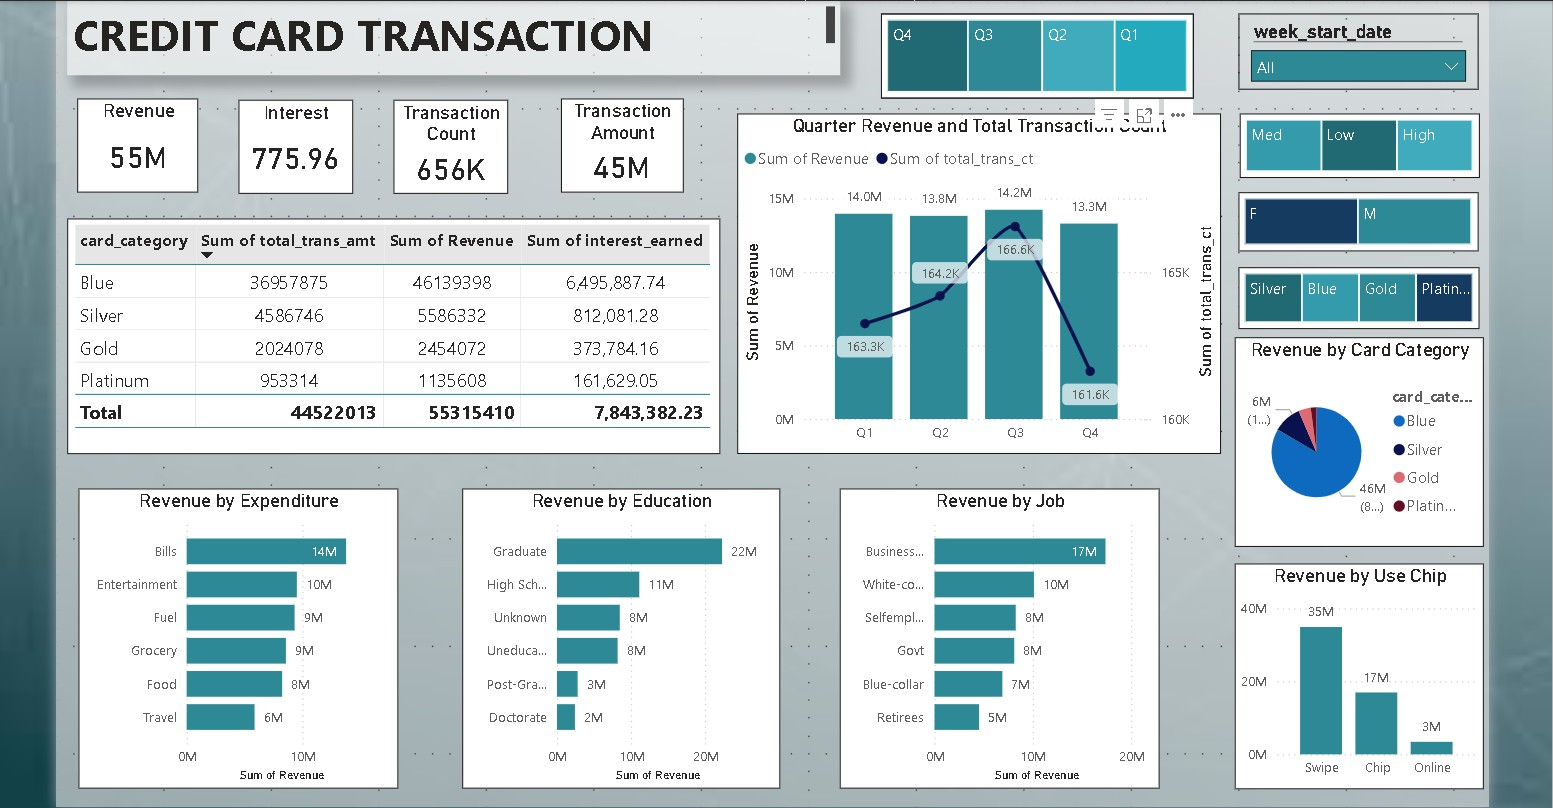

The page's visual inventory and layout, read from the dashboard file:
{"tool":"powerbi","page":{"name":"Page 2","canvas":[1280,720],"ordinal":0},"visuals":[{"type":"textbox","box":[9.8,0,690.5,66.5],"z":0},{"type":"lineStackedColumnComboChart","title":"Quarter Revenue and Total Transaction Count","fields":{"Category":["public cc_detail.qtr"],"Y":["Sum(public cc_detail.Revenue)"],"Y2":["Sum(public cc_detail.total_trans_ct)"]},"box":[608,100.9,432,304],"z":1000},{"type":"barChart","title":"Revenue by Expenditure","fields":{"Y":["Sum(public cc_detail.Revenue)"],"Category":["public cc_detail.exp_type"]},"box":[19.7,435.7,285.5,268.3],"z":2000},{"type":"barChart","title":"Revenue by Education","fields":{"Y":["Sum(public cc_detail.Revenue)"],"Category":["public cust_detail.education_level"]},"box":[363.1,435.7,284.3,268.3],"z":3000},{"type":"barChart","title":"Revenue by Job","fields":{"Y":["Sum(public cc_detail.Revenue)"],"Category":["public cust_detail.customer_job"]},"box":[700.3,435.7,285.5,268.3],"z":4000},{"type":"pieChart","title":"Revenue by Card Category","fields":{"Category":["public cc_detail.card_category"],"Y":["Sum(public cc_detail.Revenue)"]},"box":[1052.3,300.3,222.8,187.1],"z":5000},{"type":"columnChart","title":"Revenue by Use Chip","fields":{"Category":["public cc_detail.use_chip"],"Y":["Sum(public cc_detail.Revenue)"]},"box":[1052.3,502.2,222.8,201.8],"z":6000},{"type":"tableEx","fields":{"Values":["public cc_detail.card_category","Sum(public cc_detail.total_trans_amt)","Sum(public cc_detail.Revenue)","Sum(public cc_detail.interest_earned)"]},"box":[9.8,194.5,583.4,210.5],"z":7000},{"type":"card","title":"Revenue","fields":{"Values":["Sum(public cc_detail.Revenue)"]},"box":[18.5,87.4,108.3,83.7],"z":8000},{"type":"card","title":"Interest","fields":{"Values":["Avg(public cc_detail.interest_earned)"]},"box":[162.5,88.6,102.2,83.7],"z":9000},{"type":"card","title":"TransactionAmount","fields":{"Values":["Sum(public cc_detail.total_trans_amt)"]},"box":[450.5,87.4,109.5,83.7],"z":10000},{"type":"card","title":"Transaction Count","fields":{"Values":["Sum(public cc_detail.total_trans_ct)"]},"box":[301.5,88.6,102.2,83.7],"z":11000},{"type":"slicer","fields":{"Values":["public cc_detail.week_start_date"]},"box":[1056,11.1,214.2,67.7],"z":12000},{"type":"treemap","fields":{"Group":["public cc_detail.qtr"],"Values":["Avg(public cc_detail.client_num)"]},"box":[737.2,11.1,279.4,76.3],"z":13000},{"type":"treemap","fields":{"Group":["public cc_detail.card_category"],"Values":["Avg(public cc_detail.client_num)"]},"box":[1056,237.5,215.4,55.4],"z":14000},{"type":"treemap","fields":{"Group":["public cust_detail.gender"],"Values":["Avg(public cc_detail.client_num)"]},"box":[1056,171.1,214.2,52.9],"z":15000},{"type":"treemap","fields":{"Group":["public cust_detail.IncomeGroup"],"Values":["Avg(public cc_detail.client_num)"]},"box":[1057.2,100.9,214.2,57.8],"z":16000}]}

Visuals, with their boxes in screenshot pixels (x1, y1, x2, y2):
textbox: (72, 0, 837, 74)
"Quarter Revenue and Total Transaction Count" lineStackedColumnComboChart: (734, 112, 1213, 449)
"Revenue by Expenditure" barChart: (82, 483, 399, 780)
"Revenue by Education" barChart: (463, 483, 778, 780)
"Revenue by Job" barChart: (837, 483, 1153, 780)
"Revenue by Card Category" pieChart: (1226, 333, 1473, 540)
"Revenue by Use Chip" columnChart: (1226, 556, 1473, 780)
tableEx - public cc_detail.card_category x Sum(public cc_detail.total_trans_amt): (72, 215, 718, 449)
"Revenue" card: (81, 97, 201, 190)
"Interest" card: (241, 98, 354, 191)
"TransactionAmount" card: (560, 97, 681, 190)
"Transaction Count" card: (395, 98, 508, 191)
slicer - public cc_detail.week_start_date: (1231, 12, 1468, 87)
treemap - public cc_detail.qtr x Avg(public cc_detail.client_num): (877, 12, 1187, 97)
treemap - public cc_detail.card_category x Avg(public cc_detail.client_num): (1231, 263, 1469, 324)
treemap - public cust_detail.gender x Avg(public cc_detail.client_num): (1231, 190, 1468, 248)
treemap - public cust_detail.IncomeGroup x Avg(public cc_detail.client_num): (1232, 112, 1469, 176)
